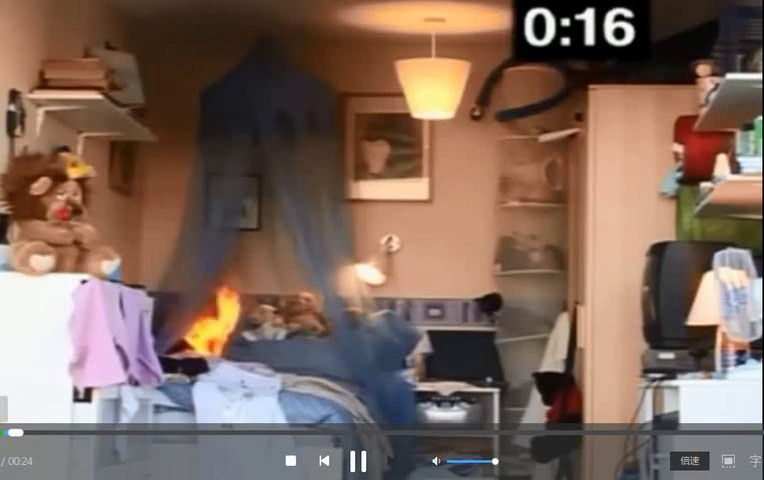fire: (175, 282, 245, 369)
